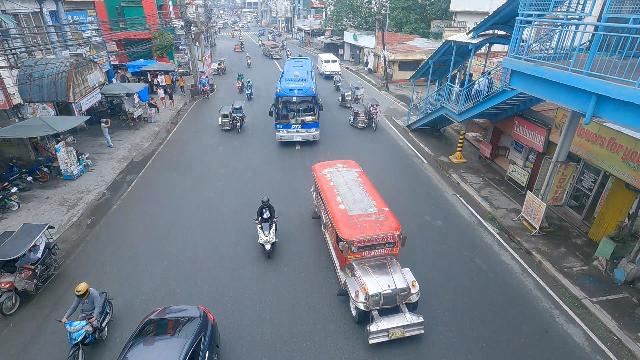bus: (269, 56, 323, 142)
car: (238, 33, 244, 41), (234, 26, 241, 32)
jeepney: (308, 157, 427, 348), (261, 39, 282, 59)
motorcycle: (58, 285, 113, 360), (252, 196, 280, 259), (245, 81, 254, 101), (236, 74, 244, 93), (334, 75, 341, 91), (245, 52, 252, 68), (285, 48, 292, 59), (230, 30, 236, 38), (258, 38, 262, 47)
van: (318, 53, 343, 79)
